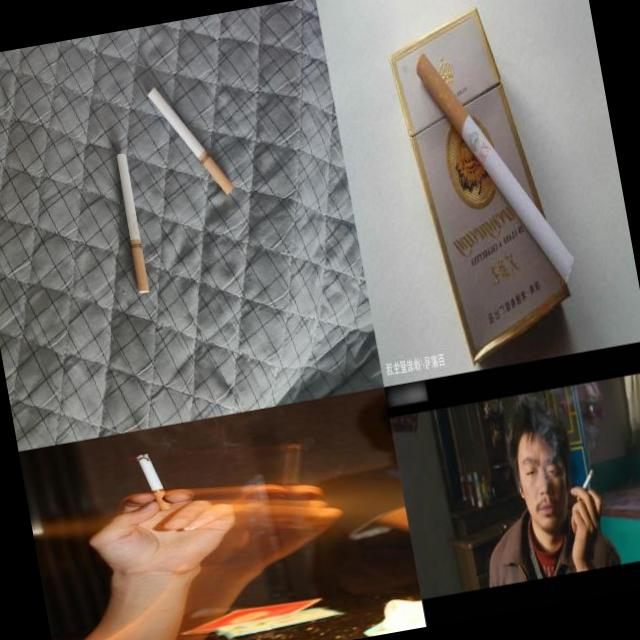smoke: (412, 32, 577, 302), (70, 436, 244, 594), (146, 76, 236, 206), (550, 466, 612, 576), (113, 152, 151, 295)
